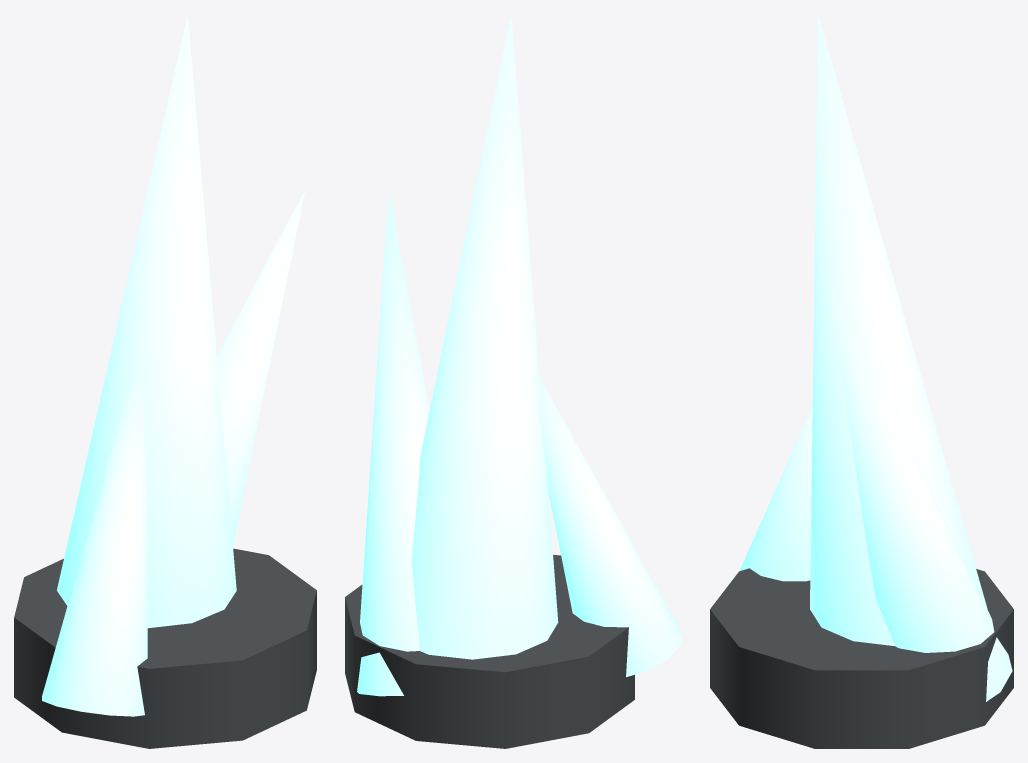
Rendered from crystal.glb.
The picture shows the model from 3 angles, left to right: view 1: azimuth 30°, elevation 25°; view 2: azimuth 150°, elevation 25°; view 3: azimuth 270°, elevation 25°; orthographic projection. The views are drawn at different scales.
Parts seen in each view (by area): view 1: Shard0, Base, Shard2, Shard1; view 2: Shard0, Base, Shard1, Shard2; view 3: Shard0, Base, Shard1, Shard2.
Part boxes in pixels (x1,y1,x2,y2): Shard0: [57, 14, 236, 628]; Base: [14, 548, 316, 748]; Shard2: [42, 375, 147, 716]; Shard1: [217, 191, 304, 545]; Shard0: [411, 15, 558, 659]; Base: [345, 554, 634, 748]; Shard1: [357, 190, 429, 696]; Shard2: [538, 377, 681, 677]; Shard0: [810, 14, 987, 645]; Base: [710, 568, 1013, 748]; Shard1: [828, 279, 1012, 701]; Shard2: [739, 407, 812, 581].
Bounding box in the file's own units: 0.5899 × 1.37 × 0.56.
